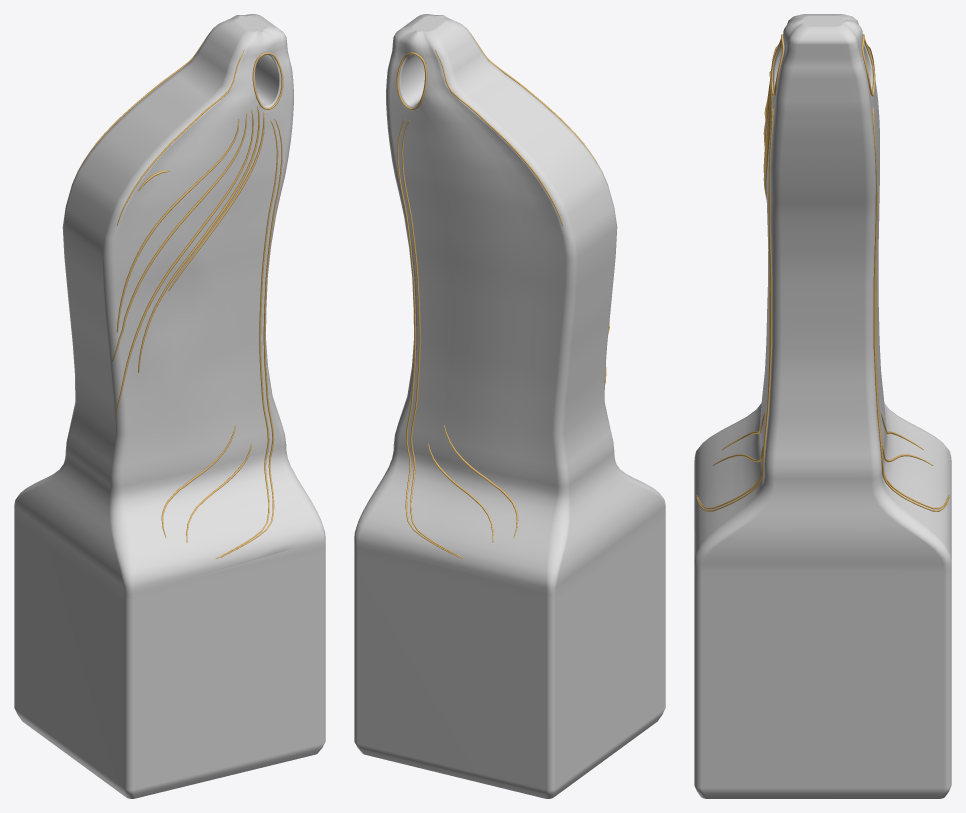
File: QingGuiR02_GeometryCandidate.fbx
3 views of the same model, side by side, from view 1: azimuth 30°, elevation 25°; view 2: azimuth 150°, elevation 25°; view 3: azimuth 270°, elevation 25° (orthographic). The views are drawn at different scales.
Visible parts, largest first — view 1: QingGuiR02_Body_LOD0, QingGuiR02_GoldWire_LOD0; view 2: QingGuiR02_Body_LOD0, QingGuiR02_GoldWire_LOD0; view 3: QingGuiR02_Body_LOD0, QingGuiR02_GoldWire_LOD0.
Boxes of the visible parts, x1,y1,x2,y2 form: QingGuiR02_Body_LOD0: (14,14,325,798); QingGuiR02_GoldWire_LOD0: (74,27,283,558); QingGuiR02_Body_LOD0: (354,14,665,798); QingGuiR02_GoldWire_LOD0: (396,27,609,558); QingGuiR02_Body_LOD0: (694,14,951,798); QingGuiR02_GoldWire_LOD0: (696,20,949,511).
Bounding box in the file's own units: 10.95 × 35 × 10.61.
